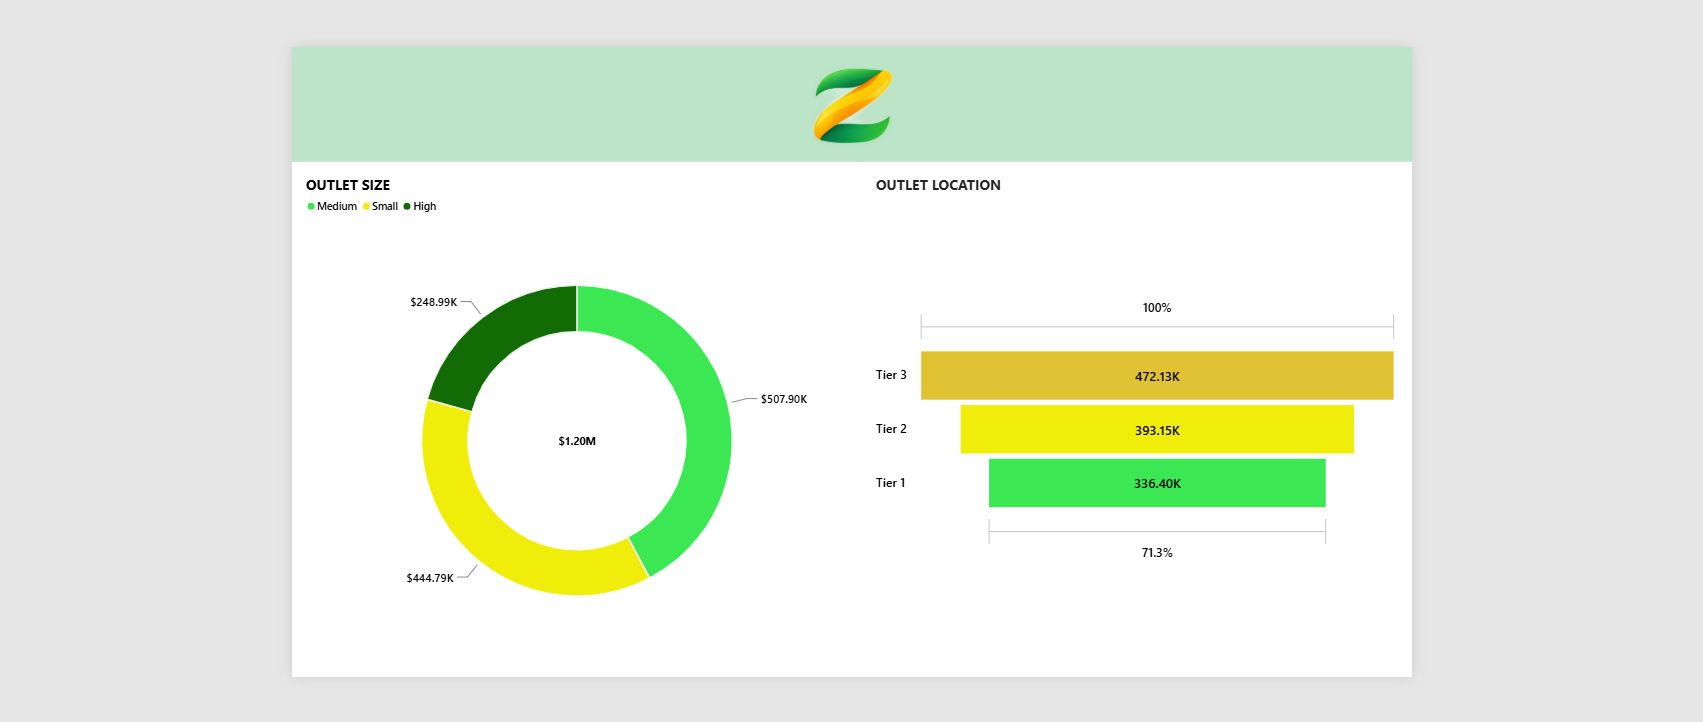

The dashboard page shown, as its layout file describes it:
{"tool":"powerbi","page":{"name":"Customers","canvas":[1280,720],"ordinal":3},"visuals":[{"type":"donutChart","title":"OUTLET SIZE","fields":{"Category":["BlinkIT Grocery Data.Outlet Size"],"Y":["BlinkIT Grocery Data.Total Sales"]},"box":[0,131.4,651.4,588.6],"z":0},{"type":"funnel","title":"OUTLET LOCATION","fields":{"Category":["BlinkIT Grocery Data.Outlet Location Type"],"Y":["Sum(BlinkIT Grocery Data.Sales)"]},"box":[651.4,131.4,628.6,588.6],"z":1000},{"type":"shape","box":[0,0,1280,131.4],"z":1001},{"type":"image","box":[555.7,15.7,168.6,100],"z":1002}]}

Visuals, with their boxes on the page's 1280x720 design canvas (x1, y1, x2, y2). These are canvas units, not pixel positions in the 1703x722 screenshot, which may show the page scaled, cropped or inside an application window:
"OUTLET SIZE" donutChart: {"x1": 0, "y1": 131, "x2": 651, "y2": 720}
"OUTLET LOCATION" funnel: {"x1": 651, "y1": 131, "x2": 1280, "y2": 720}
shape: {"x1": 0, "y1": 0, "x2": 1280, "y2": 131}
image: {"x1": 556, "y1": 16, "x2": 724, "y2": 116}
